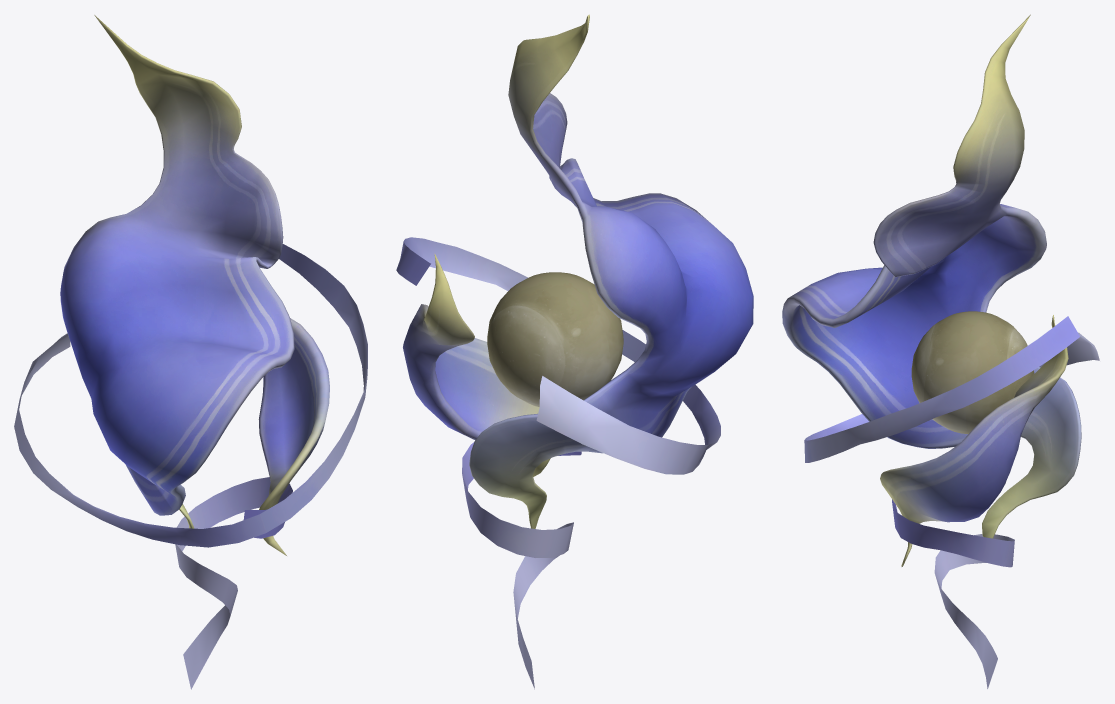
The model's file is Lunoculus.glb.
The picture shows the model from 3 angles, left to right: view 1: azimuth 30°, elevation 25°; view 2: azimuth 150°, elevation 25°; view 3: azimuth 270°, elevation 25°; orthographic projection. The views are drawn at different scales.
Visible parts, largest first — view 1: Property_Ani_Prop_NodKraiCrystal_01_Vo; view 2: Property_Ani_Prop_NodKraiCrystal_01_Vo, Property_Ani_Prop_NodKraiCrystal_01_02_Vo; view 3: Property_Ani_Prop_NodKraiCrystal_01_Vo, Property_Ani_Prop_NodKraiCrystal_01_02_Vo.
Boxes of the visible parts, x1,y1,x2,y2 form: Property_Ani_Prop_NodKraiCrystal_01_Vo: (14, 15, 367, 689); Property_Ani_Prop_NodKraiCrystal_01_Vo: (396, 14, 753, 689); Property_Ani_Prop_NodKraiCrystal_01_02_Vo: (487, 272, 623, 406); Property_Ani_Prop_NodKraiCrystal_01_Vo: (782, 14, 1099, 688); Property_Ani_Prop_NodKraiCrystal_01_02_Vo: (911, 311, 1034, 434).
Size of the model in its own units: 1.18 by 2.61 by 1.18.
3 materials, 3 textured.
